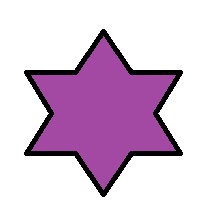star: (23, 29, 184, 198)
